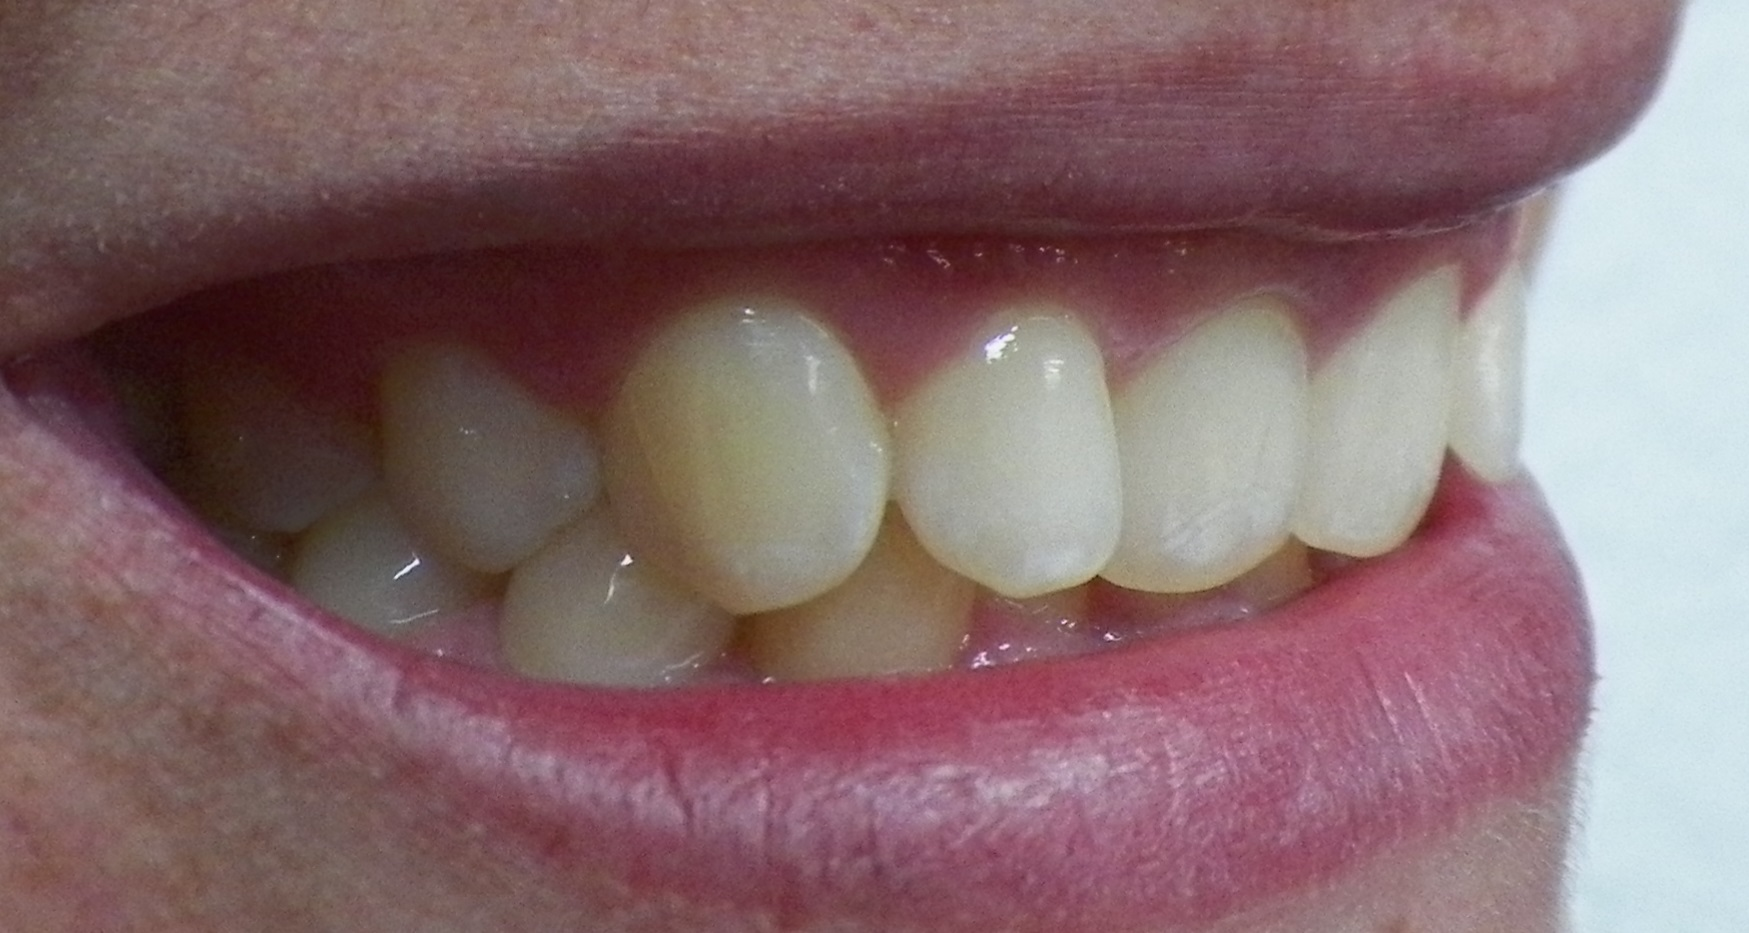boca: (187, 262, 1554, 687)
